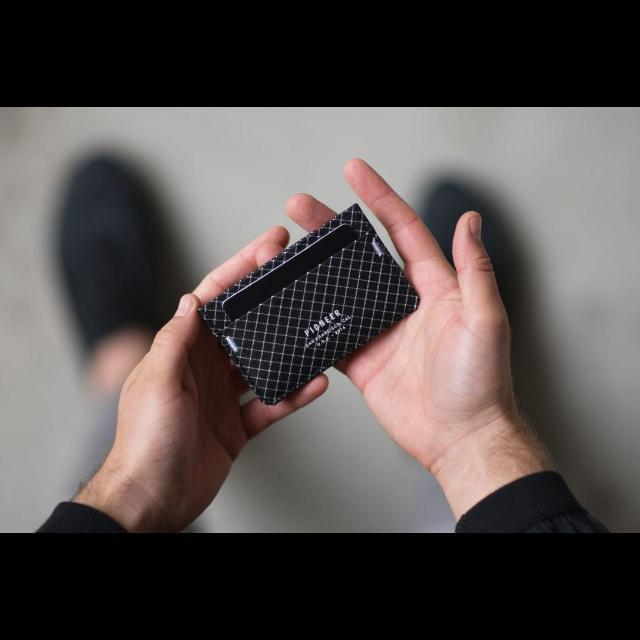wallet: (196, 200, 424, 406)
